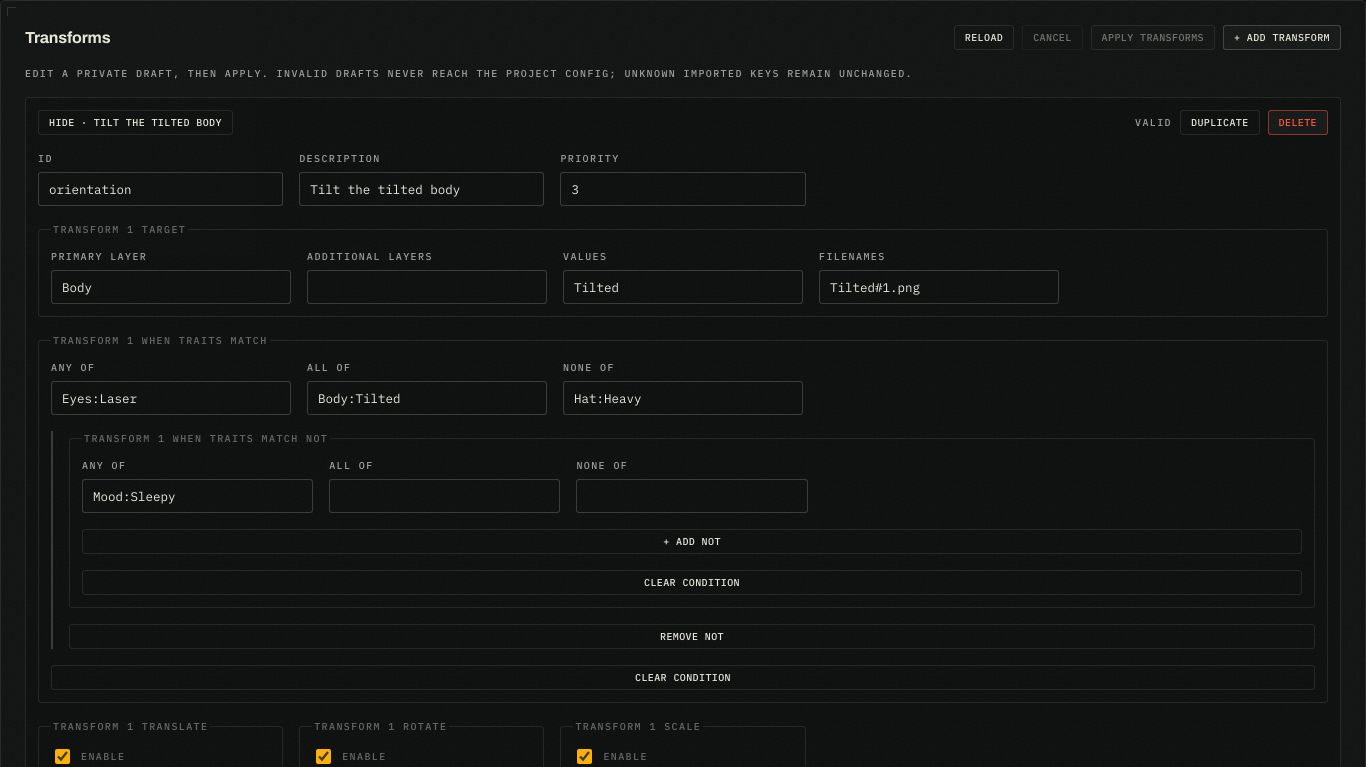
TransformRulesEditor › keeps options out of the tab order, closes on Tab/blur, and accepts click activation once
Focus the dropdown named "Transform 1 primary layer": coordinates (171, 287) top-left (51, 270), bottom-right (291, 304)
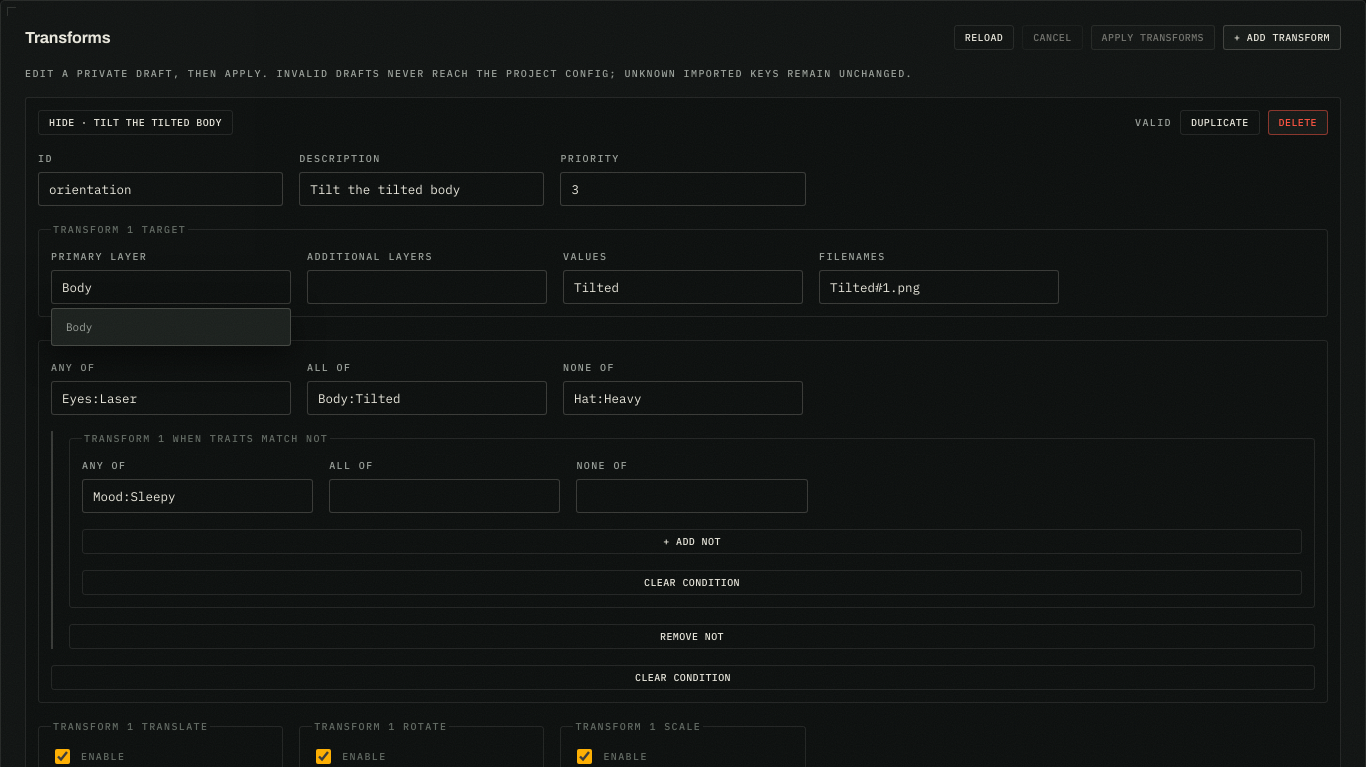
Press Tab in the dropdown named "Transform 1 primary layer", box top-left (51, 270), bottom-right (291, 304)
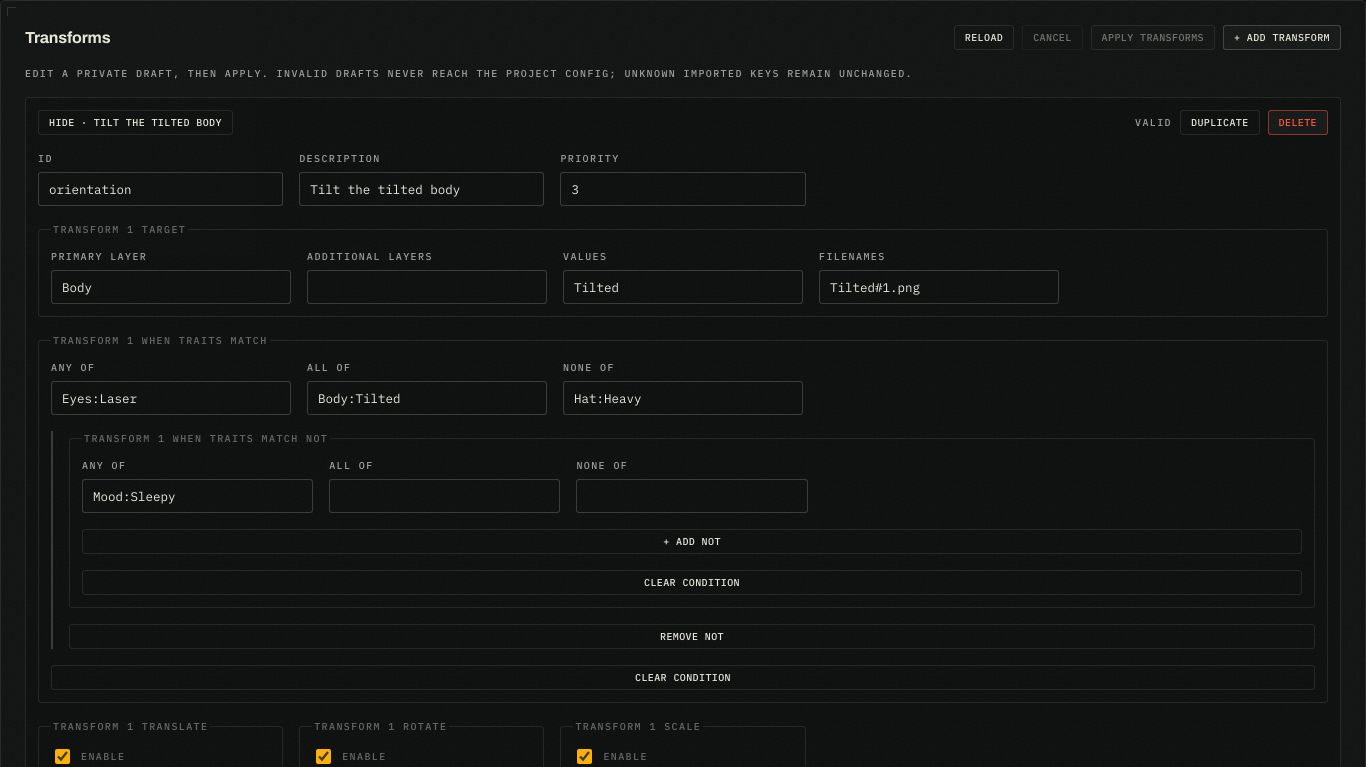
Leave the dropdown named "Transform 1 primary layer", box top-left (51, 270), bottom-right (291, 304)
Clear the dropdown named "Transform 1 primary layer": coordinates (171, 287) top-left (51, 270), bottom-right (291, 304)
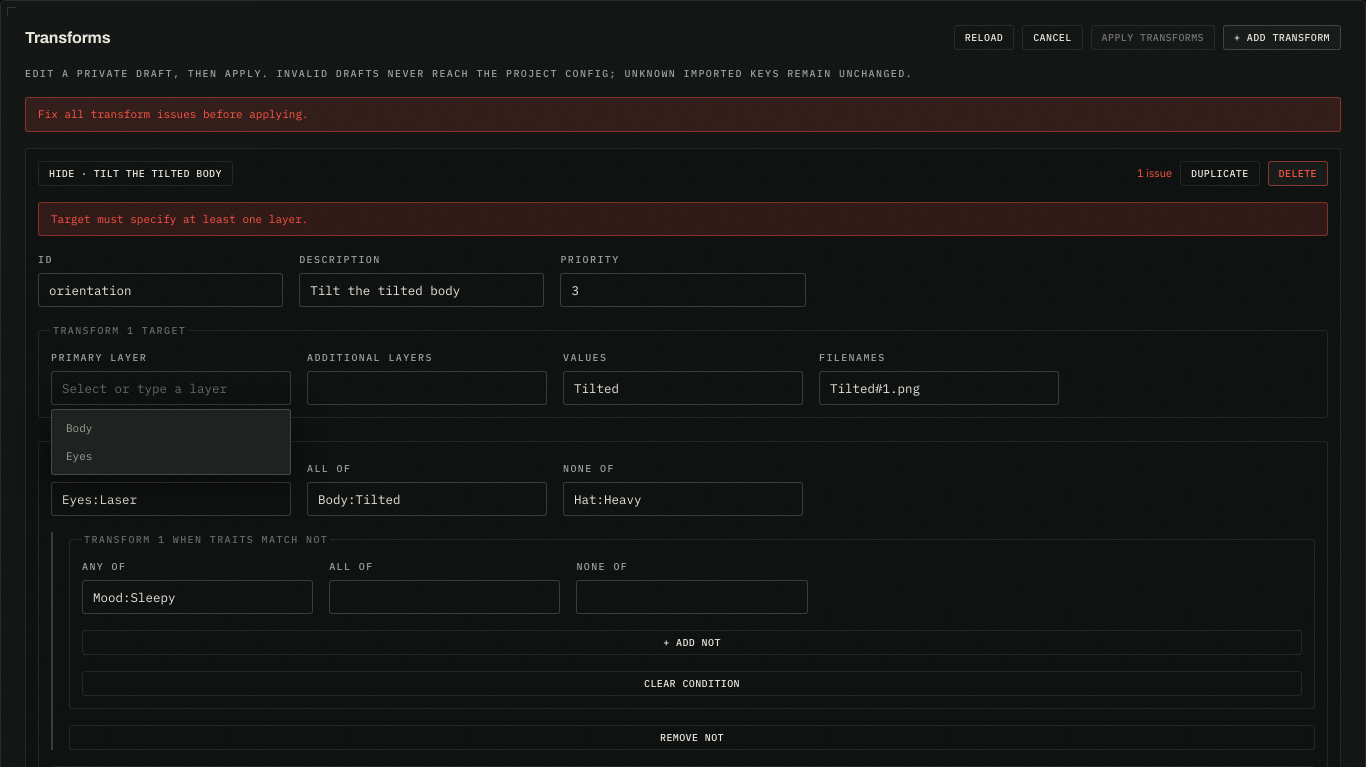
Click the option "Eyes": coordinates (171, 456) top-left (56, 442), bottom-right (286, 470)
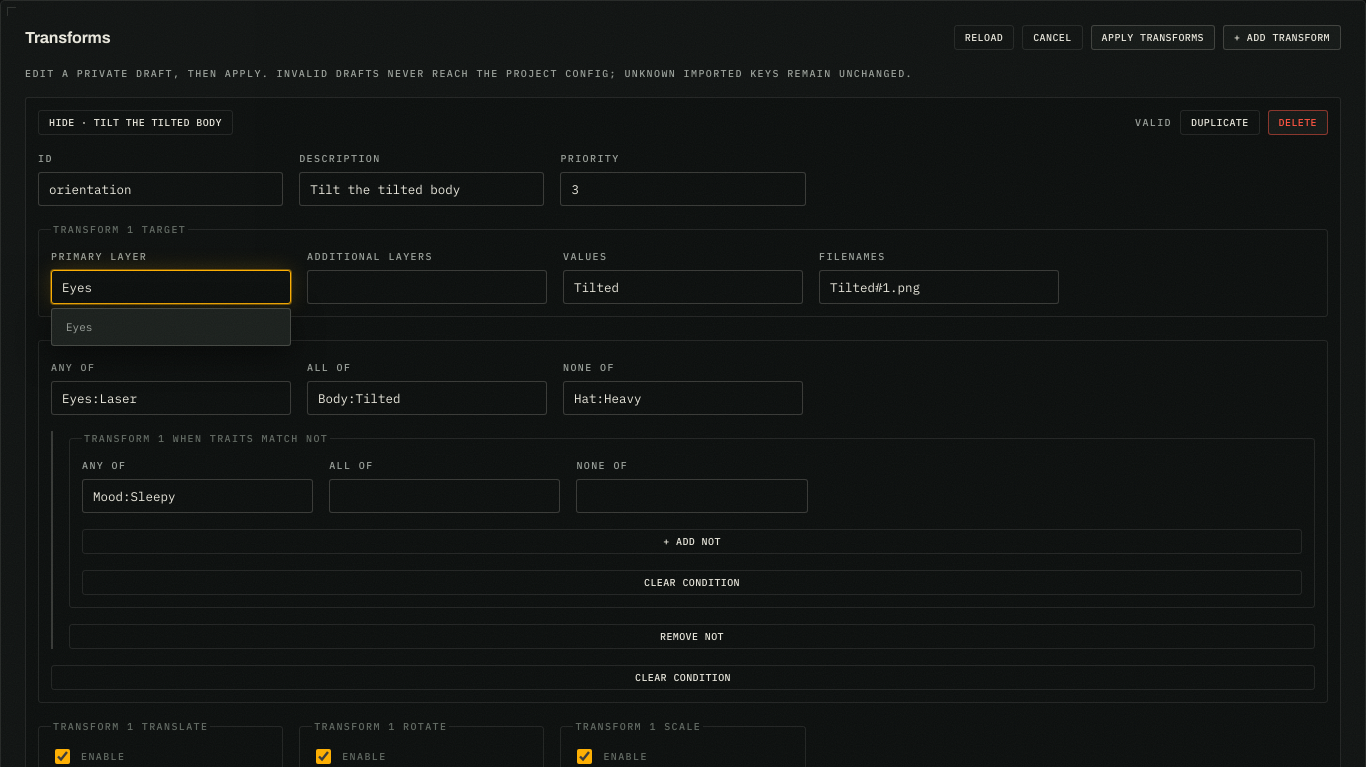
Expected: the dropdown named "Transform 1 primary layer" holds "Eyes", top-left (51, 270), bottom-right (291, 304)
